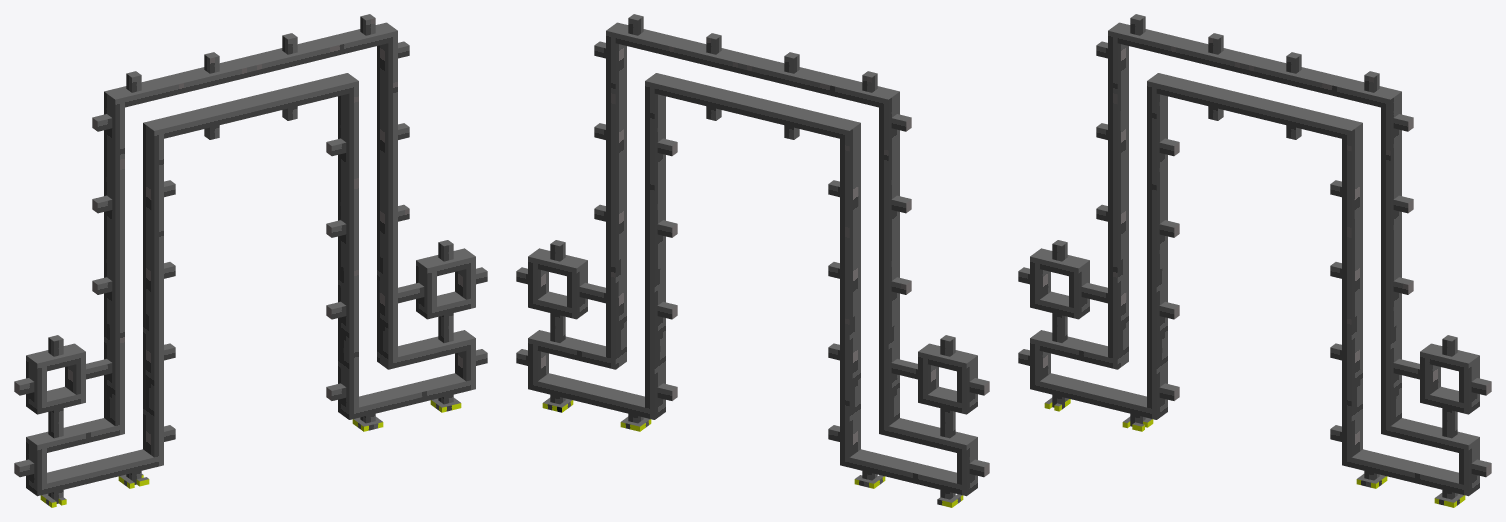
File: grave_gateao.fezao.glb
The picture shows the model from 3 angles, left to right: view 1: azimuth 30°, elevation 25°; view 2: azimuth 150°, elevation 25°; view 3: azimuth 330°, elevation 25°; orthographic projection.
Parts seen in each view (by area): view 1: GRAVE_GATEAO; view 2: GRAVE_GATEAO; view 3: GRAVE_GATEAO.
Part boxes in pixels (x1=…): GRAVE_GATEAO: x1=14, y1=14, x2=487, y2=507; GRAVE_GATEAO: x1=516, y1=14, x2=989, y2=507; GRAVE_GATEAO: x1=1018, y1=14, x2=1491, y2=507.
Size of the model in its own units: 6 by 5 by 0.25.
1 material, 1 textured.
